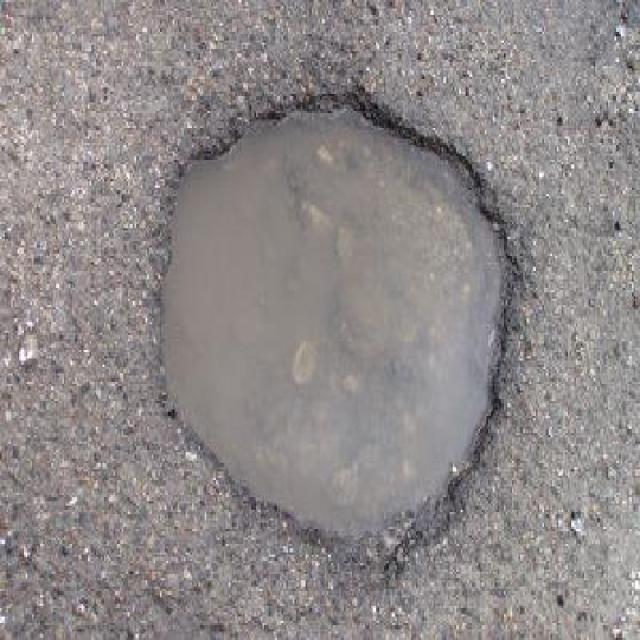pothole: (151, 81, 524, 578)
